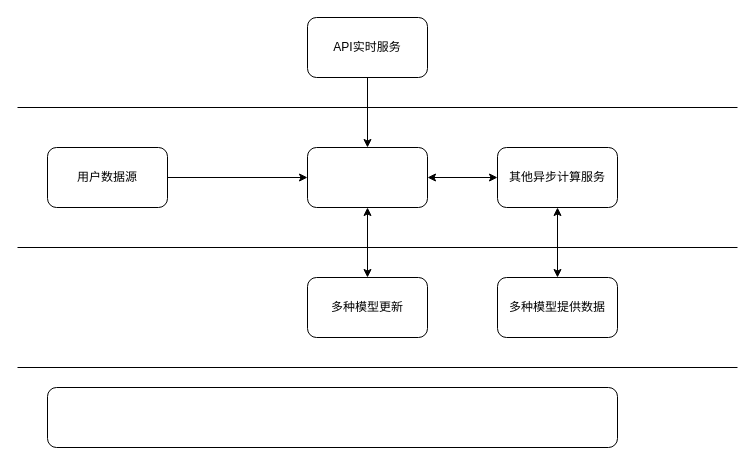
The diagram is 756 pixels wide and 465 high, and some of its shapes have lost their labels. Here are the shapes that lost their labels. From the top down, the centre of each, then its label:
point (367, 177): 数据存储
point (332, 417): 数据库服务
